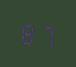eight: (19, 18, 36, 46)
seven: (37, 19, 54, 48)
